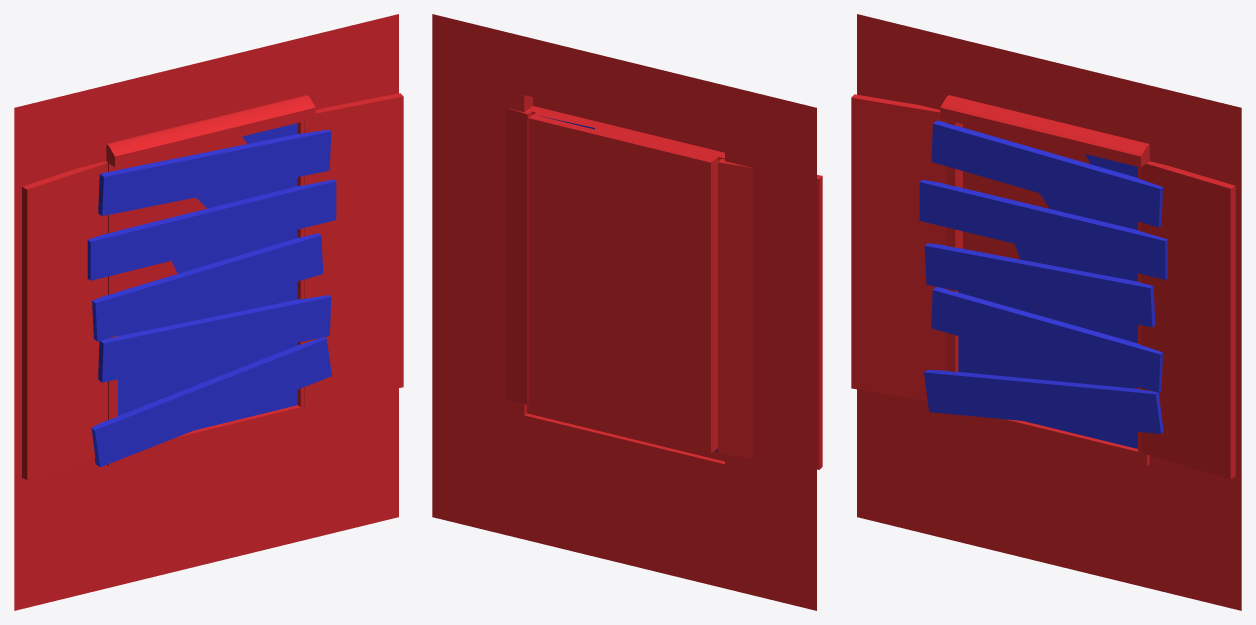
Rendered from RaamLow3.fbx.
3 views of the same model, side by side, from view 1: azimuth 30°, elevation 25°; view 2: azimuth 150°, elevation 25°; view 3: azimuth 330°, elevation 25° (orthographic).
Parts seen in each view (by area): view 1: Raam3; view 2: Raam3; view 3: Raam3.
Boxes of the visible parts, <box> form: Raam3: <box>14,14,403,610</box>; Raam3: <box>432,14,822,610</box>; Raam3: <box>851,14,1241,610</box>.
Size of the model in its own units: 200 by 250 by 13.04.
